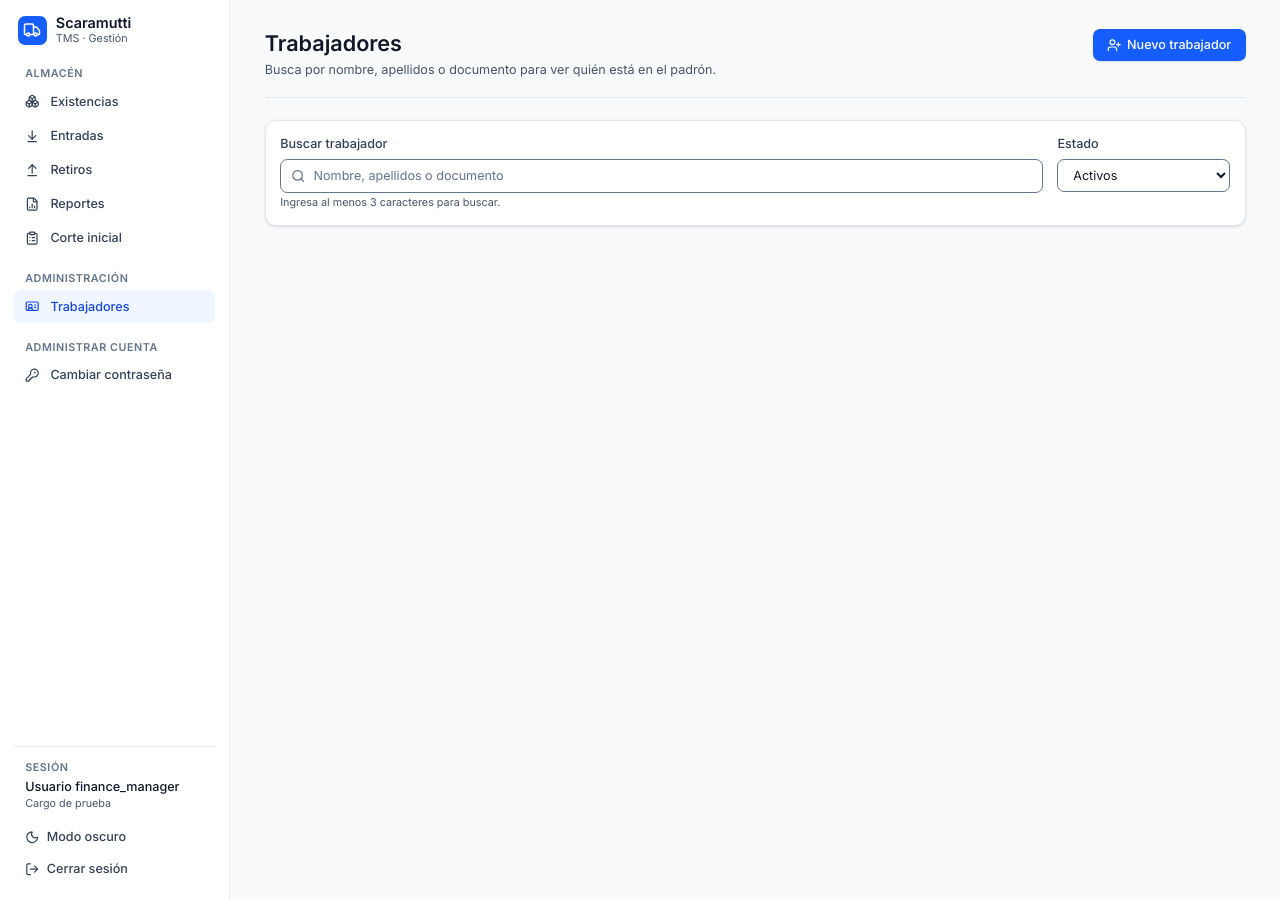
router - URL viejas y la raíz del dominio › padrón de trabajadores › desde la búsqueda, "Nuevo trabajador" abre el alta
Step 1. Click the link "Nuevo trabajador" → (1169, 45), box [1093,29,1246,61]
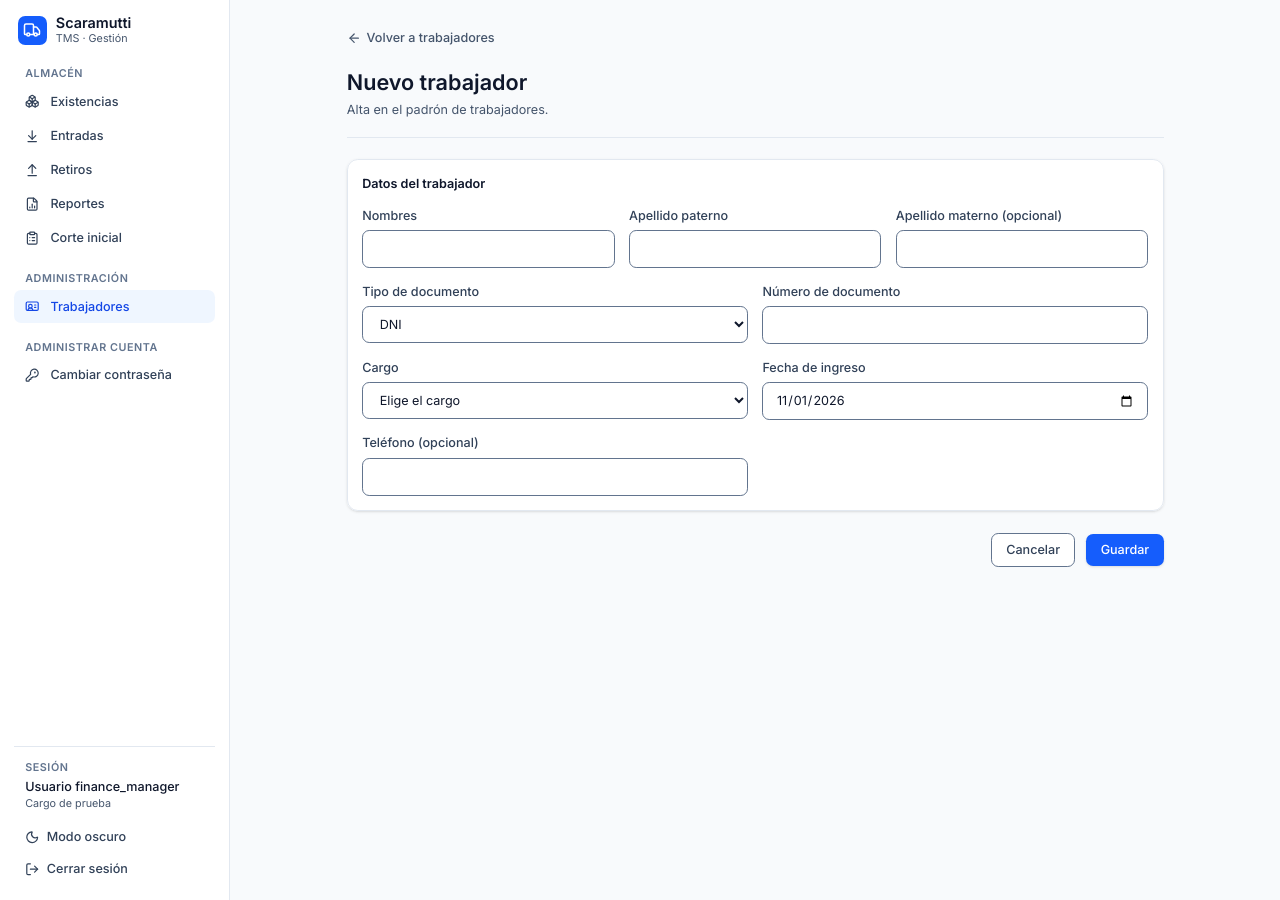
Now the heading "Nuevo trabajador" is shown, box [347,68,548,97]
